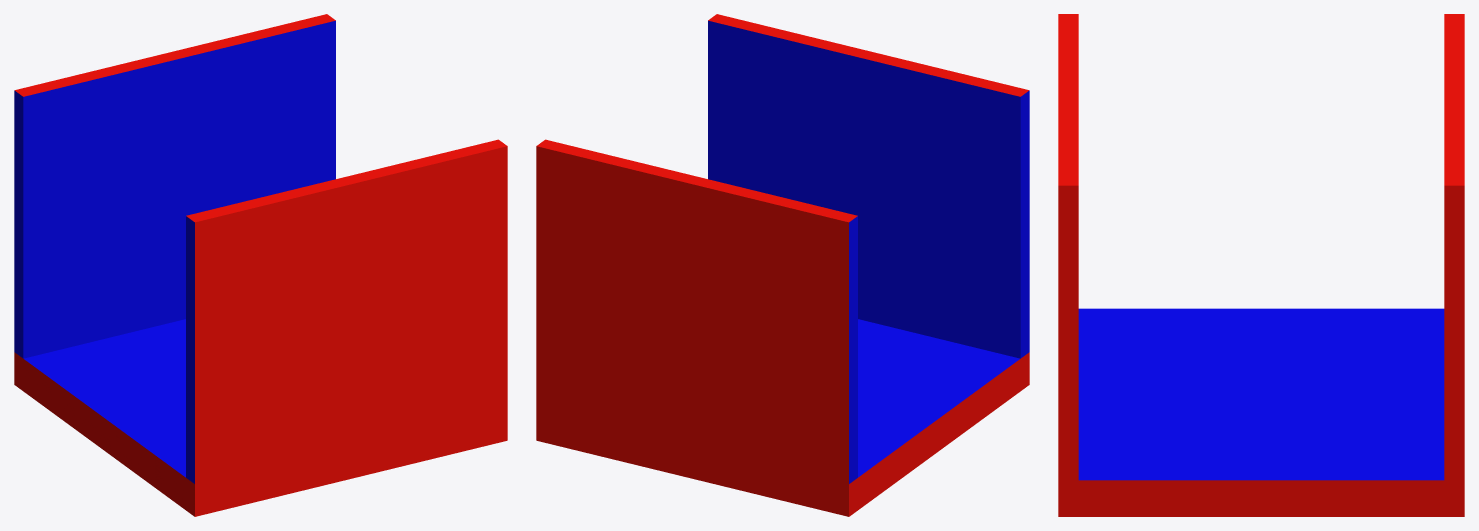
Rendered from corridor.obj.
The picture shows the model from 3 angles, left to right: view 1: azimuth 30°, elevation 25°; view 2: azimuth 150°, elevation 25°; view 3: azimuth 270°, elevation 25°; orthographic projection. The views are drawn at different scales.
Parts seen in each view (by area): view 1: wall3, wall1, floor; view 2: wall1, wall3, floor; view 3: floor, wall1, wall3.
Part boxes in pixels (x1=…): wall3: x1=186, y1=139, x2=507, y2=483; wall1: x1=14, y1=14, x2=335, y2=358; floor: x1=14, y1=319, x2=507, y2=516; wall1: x1=536, y1=139, x2=857, y2=483; wall3: x1=708, y1=14, x2=1029, y2=358; floor: x1=536, y1=319, x2=1029, y2=516; floor: x1=1058, y1=308, x2=1464, y2=516; wall1: x1=1444, y1=14, x2=1464, y2=480; wall3: x1=1058, y1=14, x2=1078, y2=480.
Size of the model in its own units: 10 by 9 by 10.
